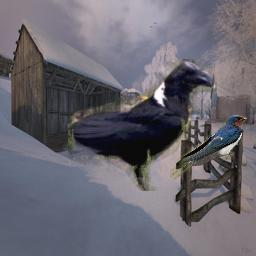Crow: (68, 59, 217, 191)
Swallow: (170, 115, 247, 180)
